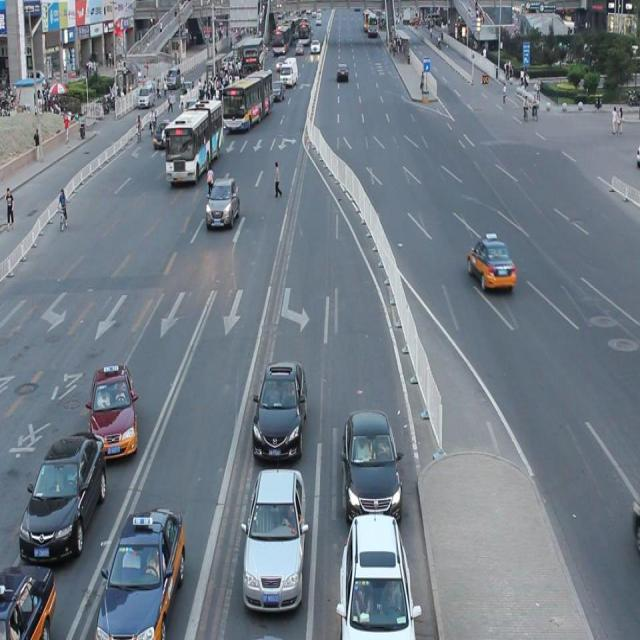car: (95, 500, 186, 640), (19, 428, 107, 562), (339, 507, 416, 640), (241, 461, 307, 610), (342, 406, 404, 522), (250, 357, 306, 460), (88, 360, 140, 458), (0, 560, 57, 640), (466, 235, 514, 290), (204, 175, 239, 228)
van: (164, 98, 223, 184)
